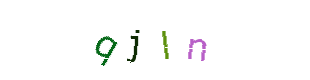J: (112, 0, 192, 80)
L: (115, 0, 195, 80)
N: (149, 0, 229, 80)
Q: (77, 0, 157, 80)
